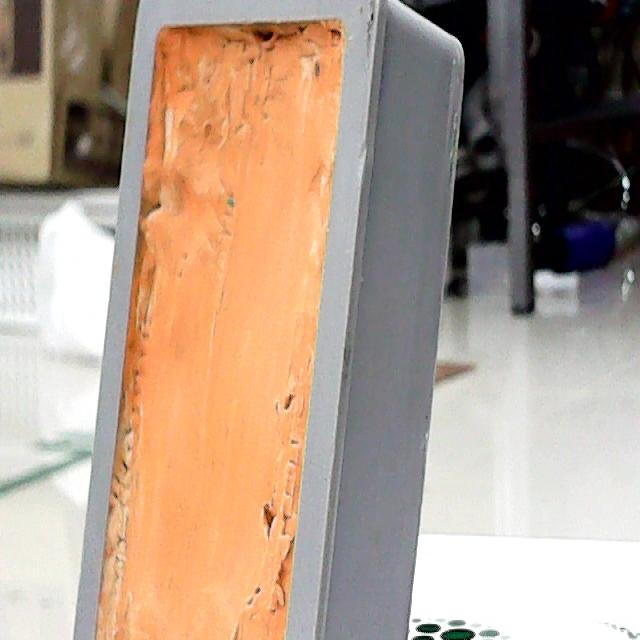block: (67, 0, 459, 639)
